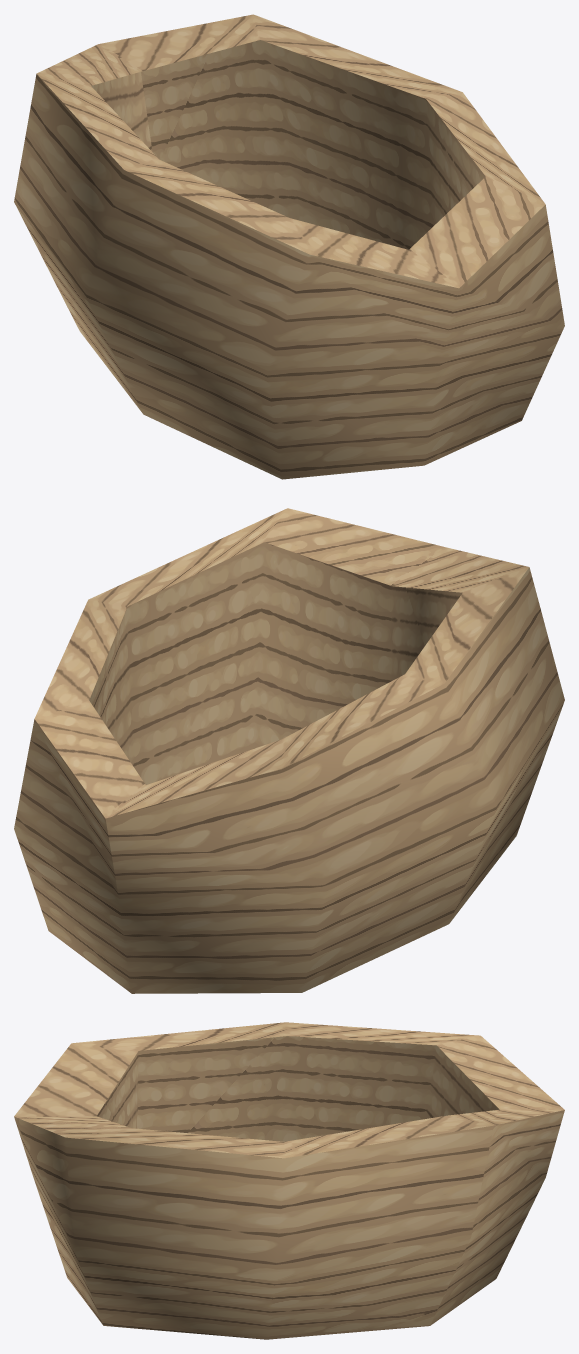
Rendered from SM_PROP_basket_03.fbx.
The picture shows the model from 3 angles, top to bottom: view 1: azimuth 30°, elevation 25°; view 2: azimuth 150°, elevation 25°; view 3: azimuth 270°, elevation 25°; orthographic projection. The views are drawn at different scales.
Parts seen in each view (by area): view 1: SM_PROP_basket_03; view 2: SM_PROP_basket_03; view 3: SM_PROP_basket_03.
Part boxes in pixels (x1,y1,x2,y2): SM_PROP_basket_03: (14,14,564,479); SM_PROP_basket_03: (14,508,564,993); SM_PROP_basket_03: (14,1022,564,1339).
Bounding box in the file's own units: 41.72 × 23.03 × 59.78.
